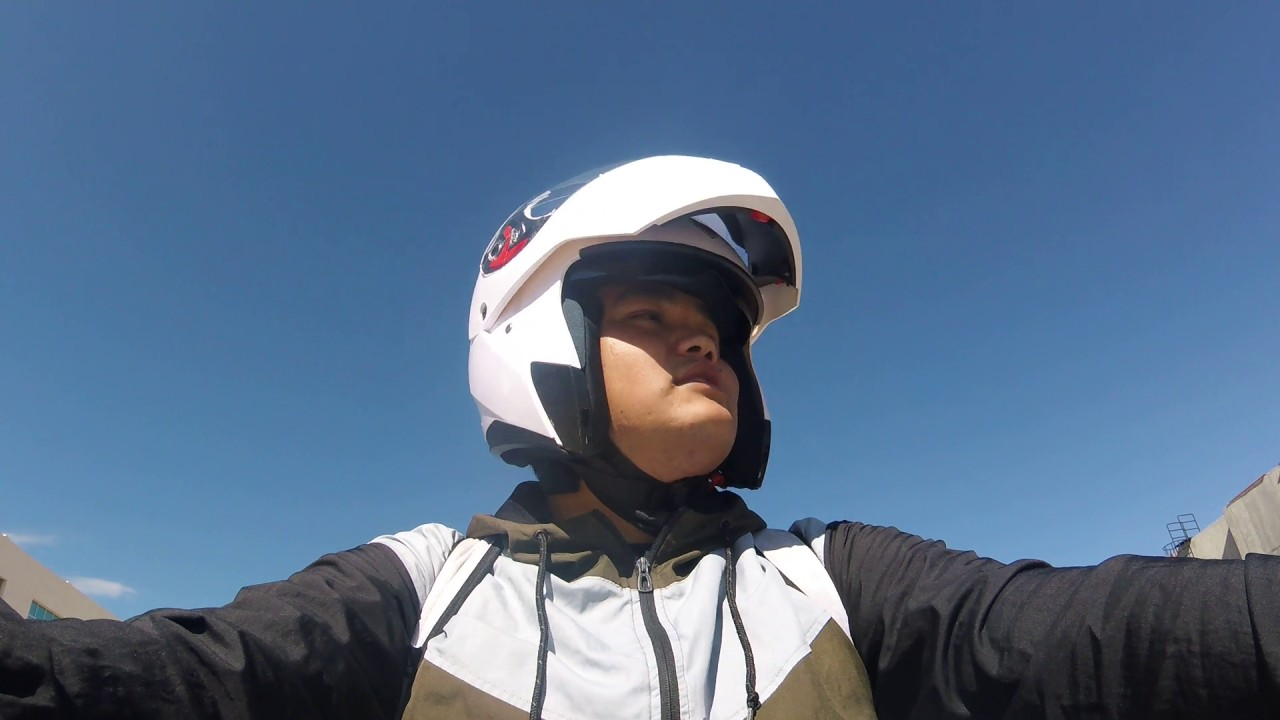With Helmet: (464, 128, 816, 521)
